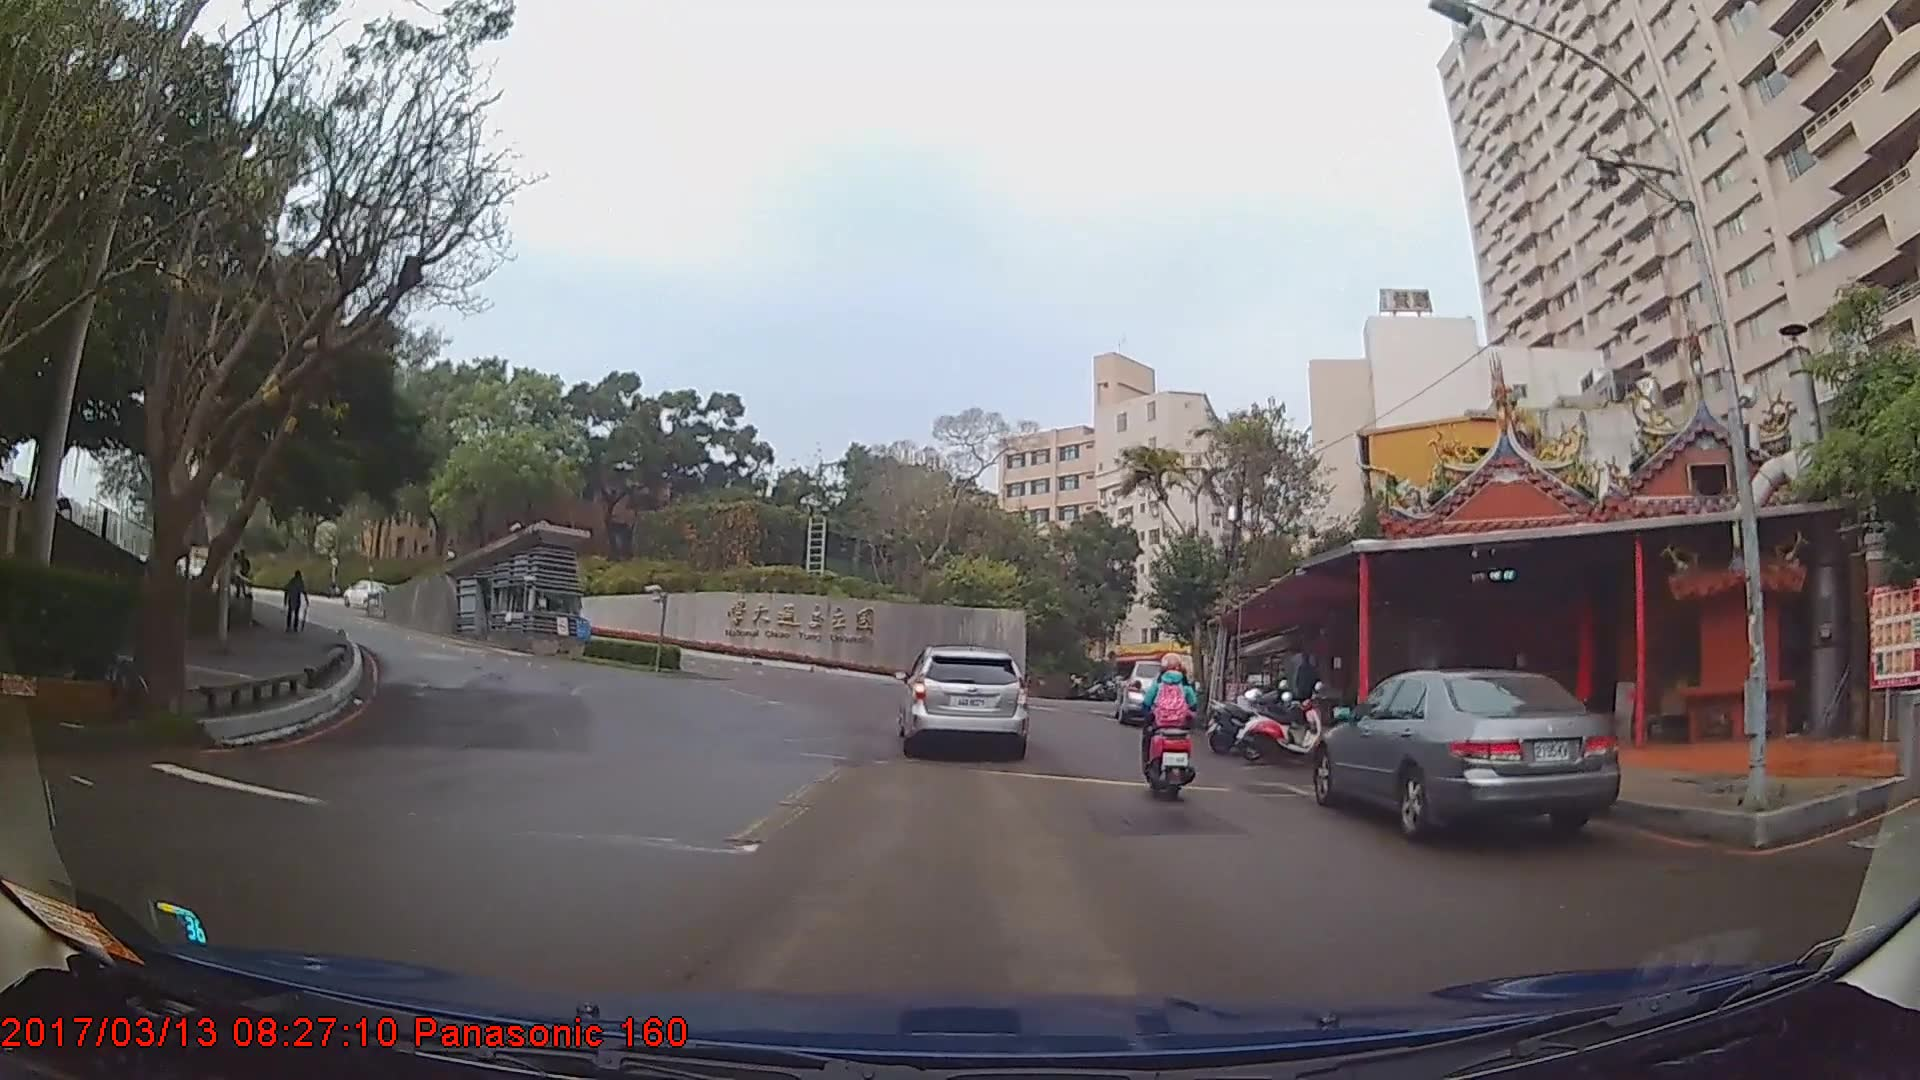pedestrian: (1294, 652, 1324, 734), (285, 572, 313, 636), (234, 547, 257, 606)
rider: (1136, 655, 1205, 811)
vehicle: (1312, 669, 1623, 843), (896, 643, 1027, 758), (1114, 658, 1192, 726), (340, 578, 390, 605)
